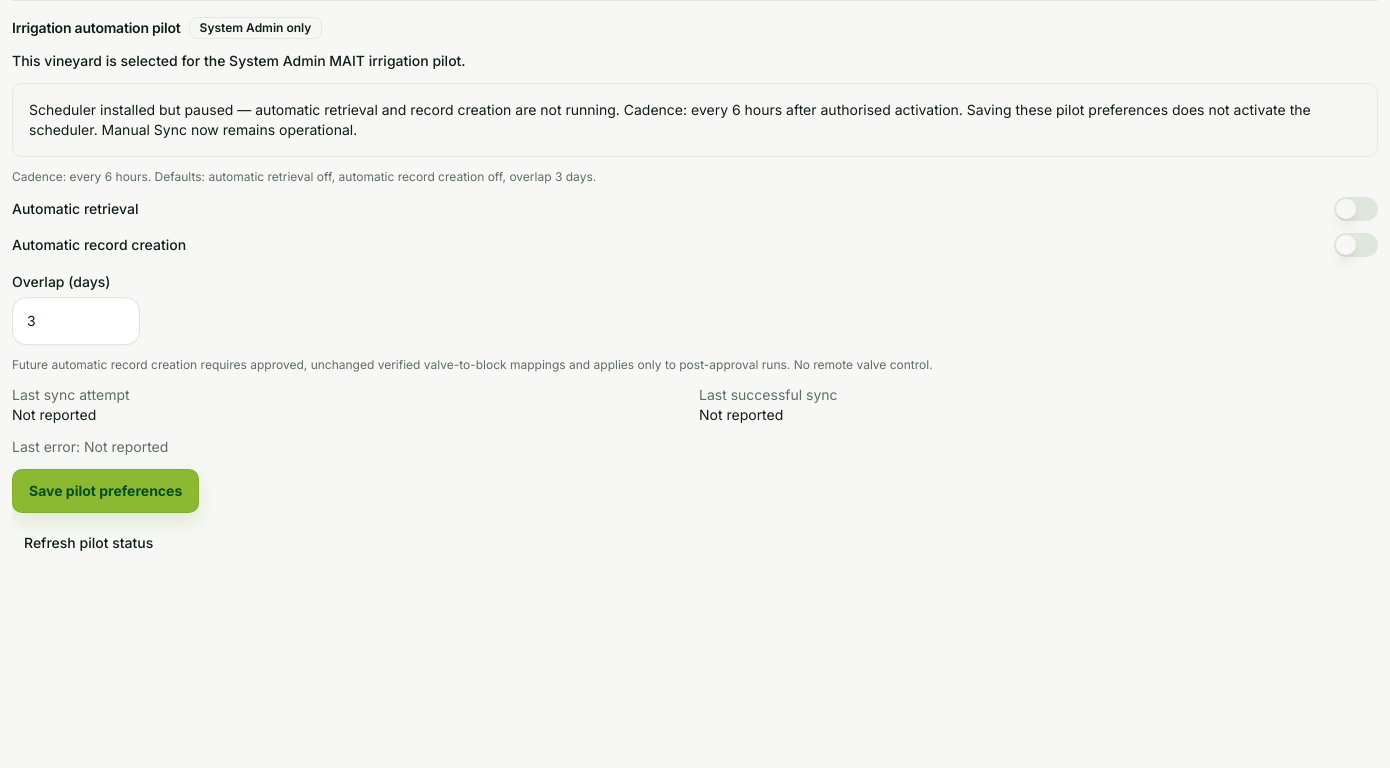
Test: MAIT irrigation automation pilot › rejects overlap  before a save request
Later steps or results of the test are not shown.
Clear the number field. click: {"x": 76, "y": 321}
box: [12, 297, 140, 345]
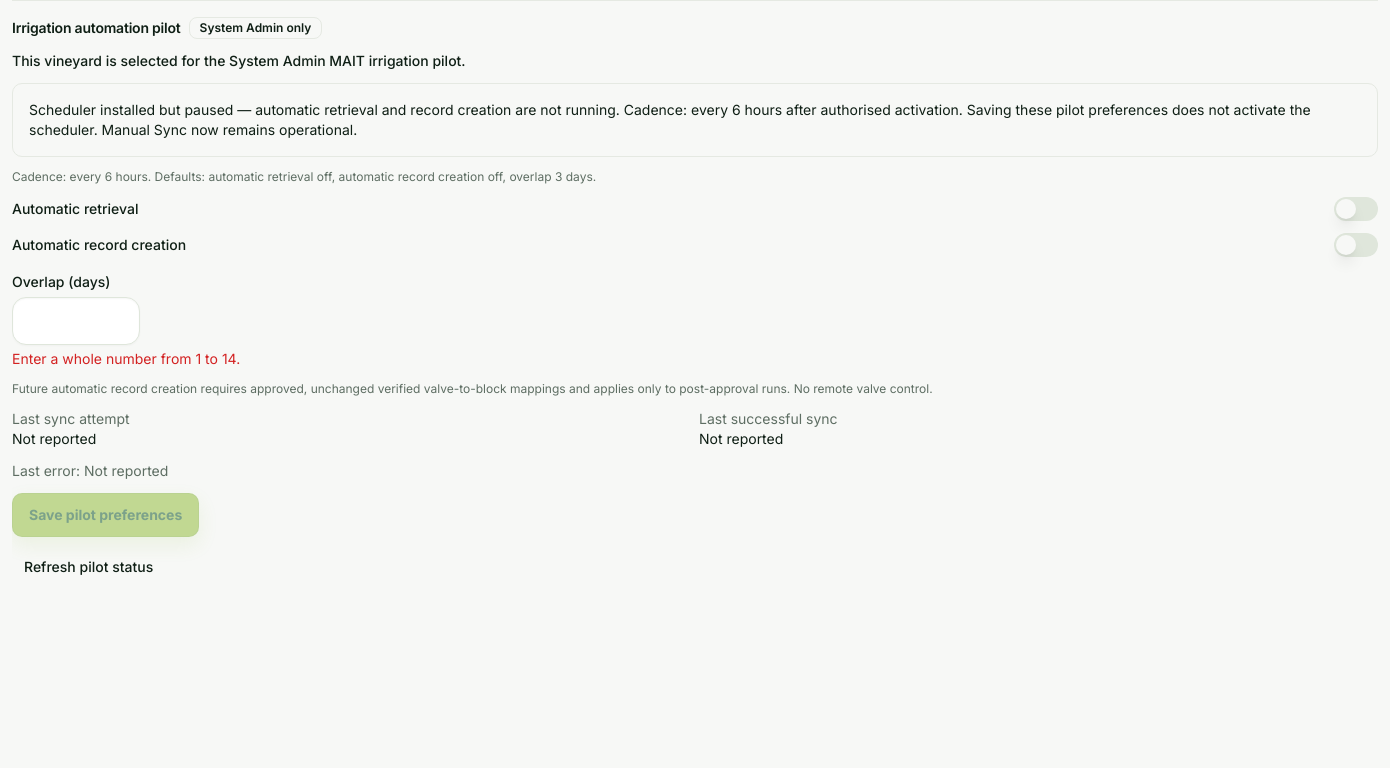
Now the button "Save pilot preferences" is disabled, box [12, 493, 199, 537]
